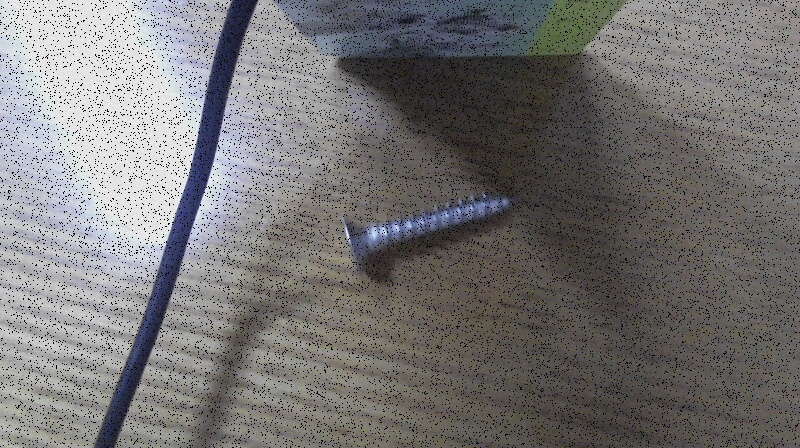S001: (335, 185, 524, 273)
